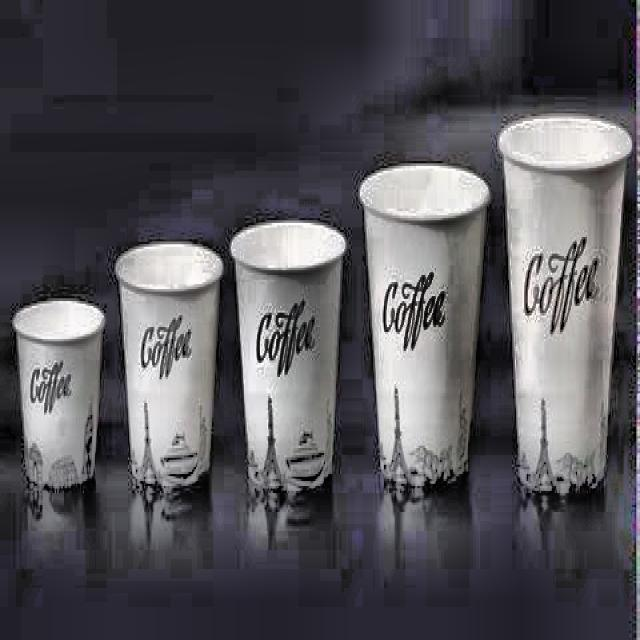Cup: (499, 106, 631, 508), (357, 157, 491, 497), (229, 212, 345, 503), (116, 238, 224, 502), (12, 296, 105, 489)
